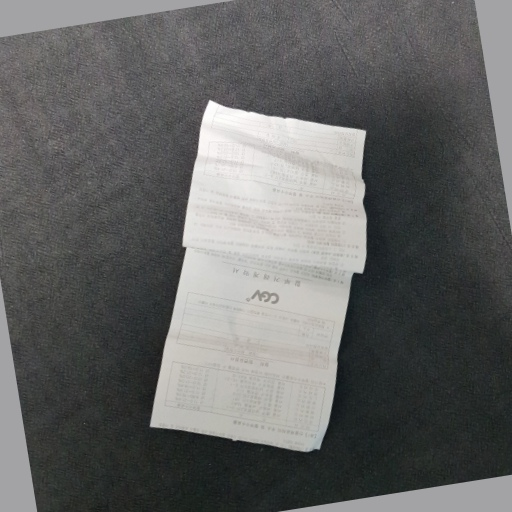Paper_3: (120, 92, 373, 462)
